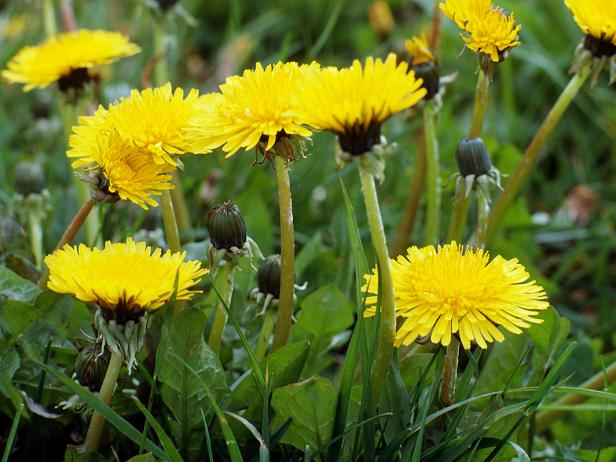dandelion: (356, 232, 560, 363), (214, 58, 417, 144), (62, 102, 227, 204), (41, 228, 205, 314), (12, 27, 132, 90), (438, 5, 535, 68), (560, 6, 616, 67)
